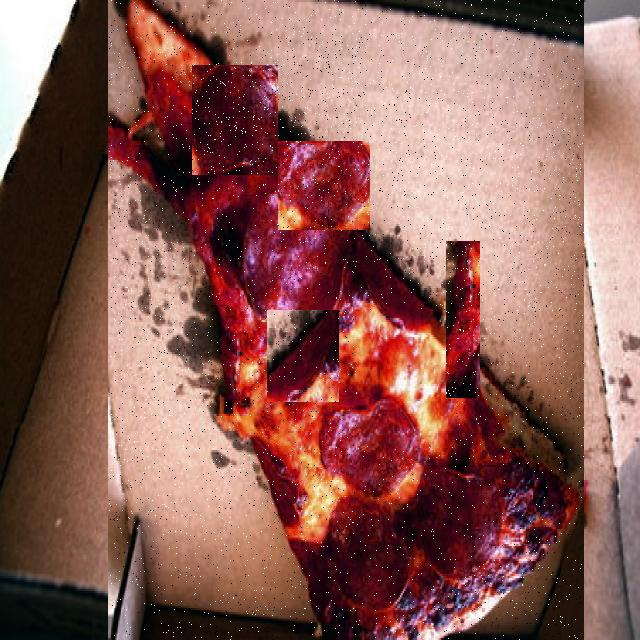Pepperoni: (357, 310, 451, 446), (192, 65, 278, 175), (459, 469, 549, 564), (278, 141, 370, 230), (288, 32, 362, 135), (267, 310, 339, 402), (446, 241, 480, 398), (386, 108, 439, 200)
Pizza: (109, 0, 584, 640)
